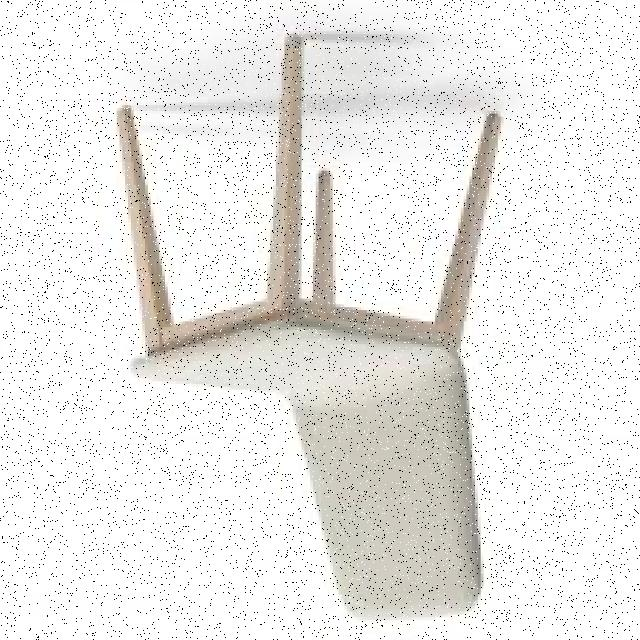bottle: (110, 41, 500, 624)
